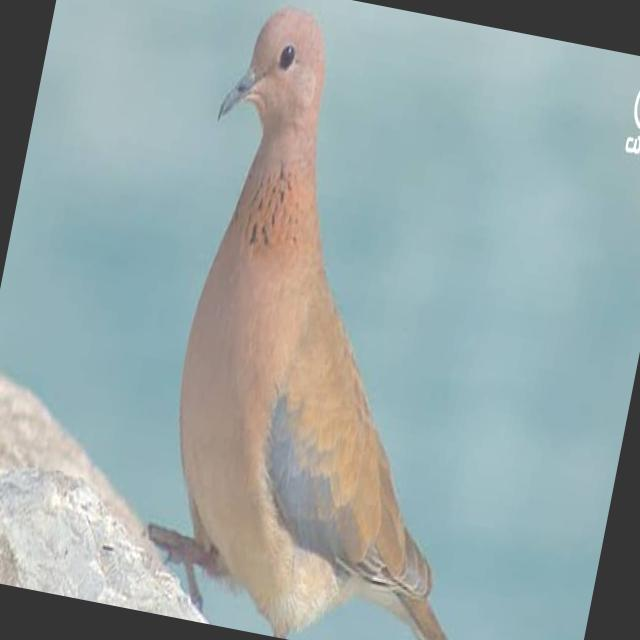bird: (119, 0, 603, 640)
